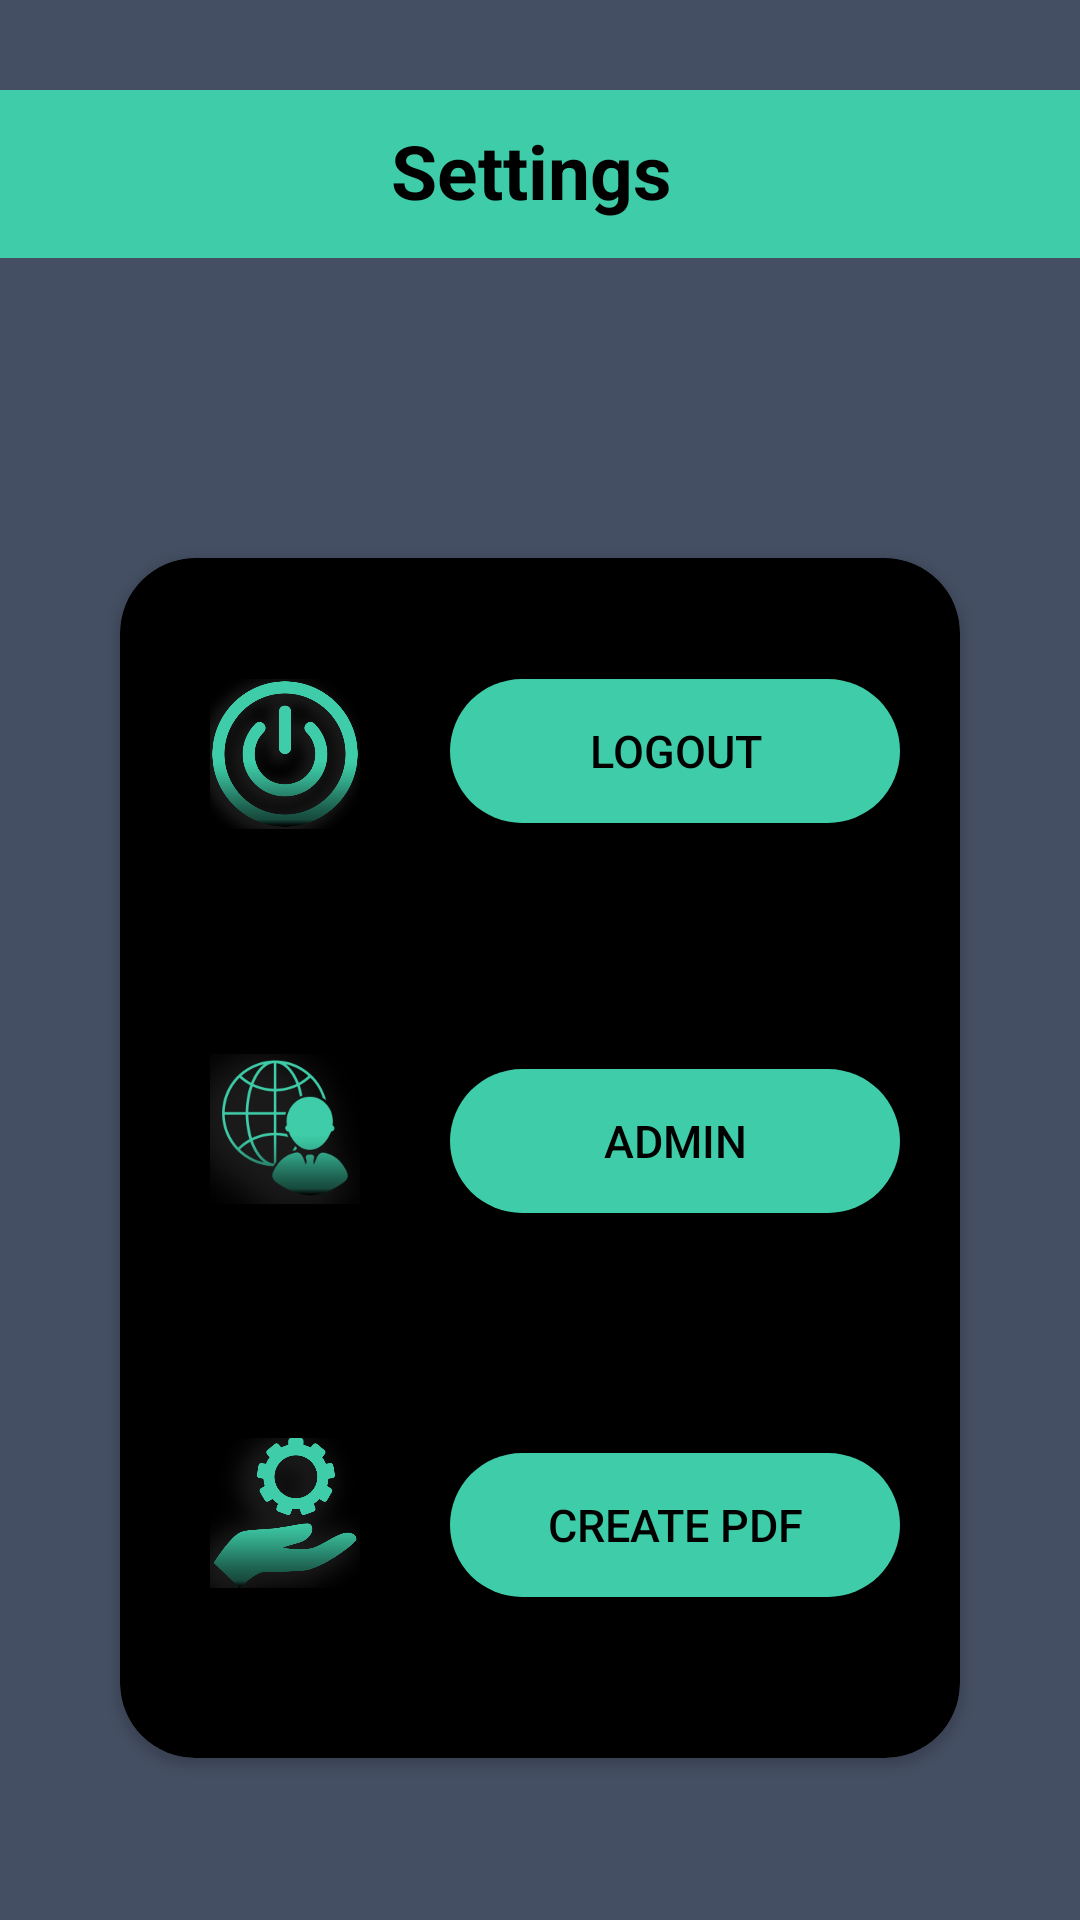

Named icons in this screenshot (1080px×1920px) and their bounding boxes, BBox(x1, y1, x2, y2):
ser: BBox(210, 1438, 357, 1588)
